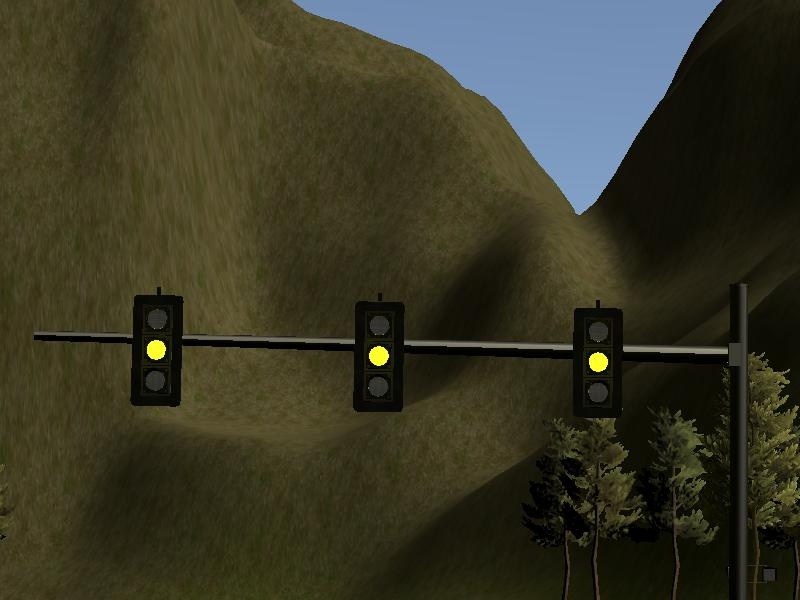YELLOW: (128, 295, 180, 405), (351, 303, 403, 413), (572, 308, 624, 418)
